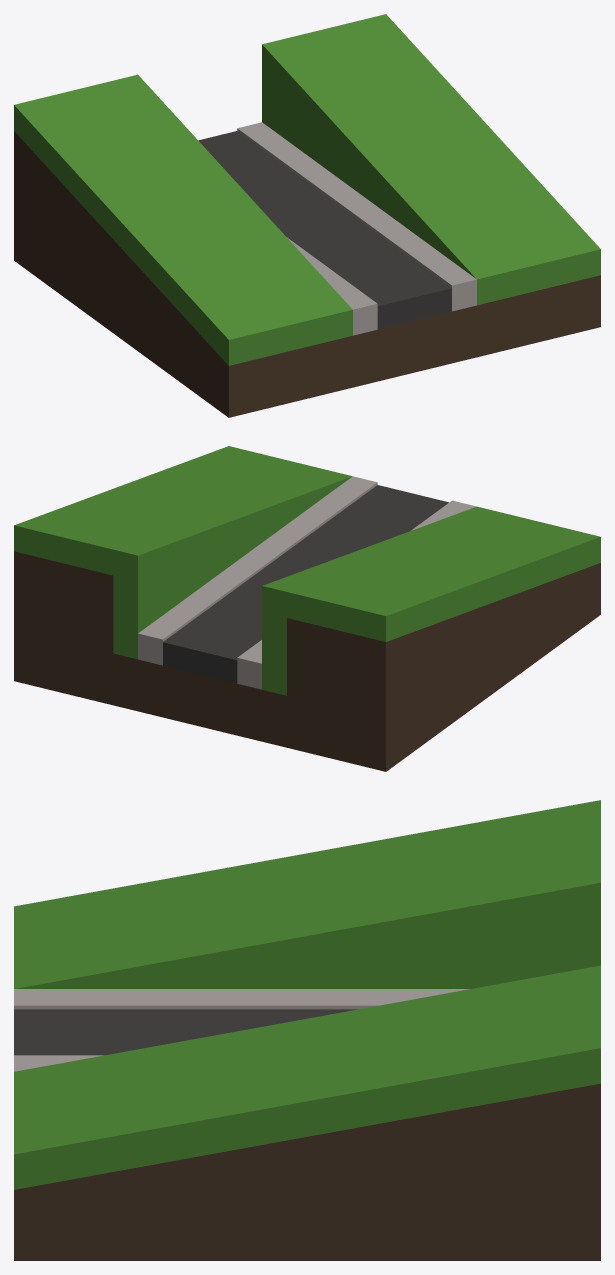
The model's file is tiles_tile-road-tunnel-entrance.fbx.
3 views of the same model, one above another, from view 1: azimuth 30°, elevation 25°; view 2: azimuth 150°, elevation 25°; view 3: azimuth 270°, elevation 25° (orthographic). The views are drawn at different scales.
Parts seen in each view (by area): view 1: tiles_tile_road_tunnel_entrance; view 2: tiles_tile_road_tunnel_entrance; view 3: tiles_tile_road_tunnel_entrance.
Part boxes in pixels (box(x1,y1,x2,y2)): tiles_tile_road_tunnel_entrance: box(14, 14, 600, 417); tiles_tile_road_tunnel_entrance: box(14, 446, 600, 771); tiles_tile_road_tunnel_entrance: box(14, 800, 600, 1260).
Size of the model in its own units: 200 by 80 by 200.
